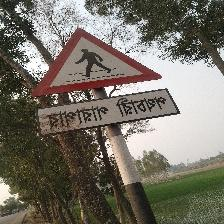Pedestrian-crossing: (32, 26, 178, 135)
